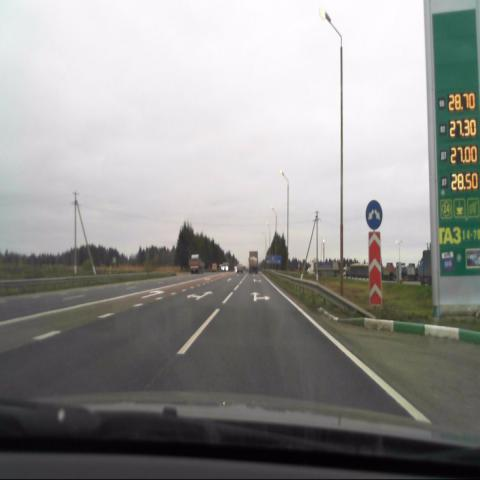4_2_3: (365, 200, 384, 229)
